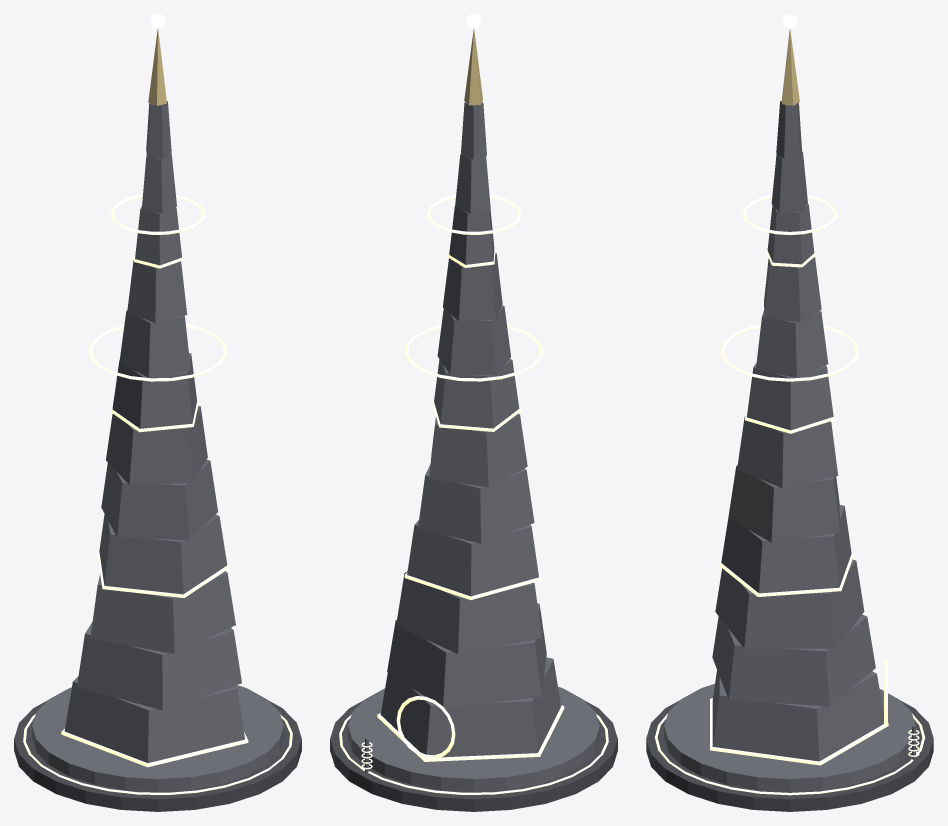
Rendered from zone_high_1_t5.glb.
3 renders of one model, left to right at view 1: azimuth 30°, elevation 25°; view 2: azimuth 150°, elevation 25°; view 3: azimuth 270°, elevation 25°, orthographic.
Parts seen in each view (by area): view 1: zone_high_1_t5; view 2: zone_high_1_t5; view 3: zone_high_1_t5.
Part boxes in pixels (box(x1,y1,x2,y2)): zone_high_1_t5: box(14, 14, 301, 811); zone_high_1_t5: box(330, 14, 617, 811); zone_high_1_t5: box(646, 14, 933, 811).
Bounding box in the file's own units: 28.8 × 81.42 × 28.8.
